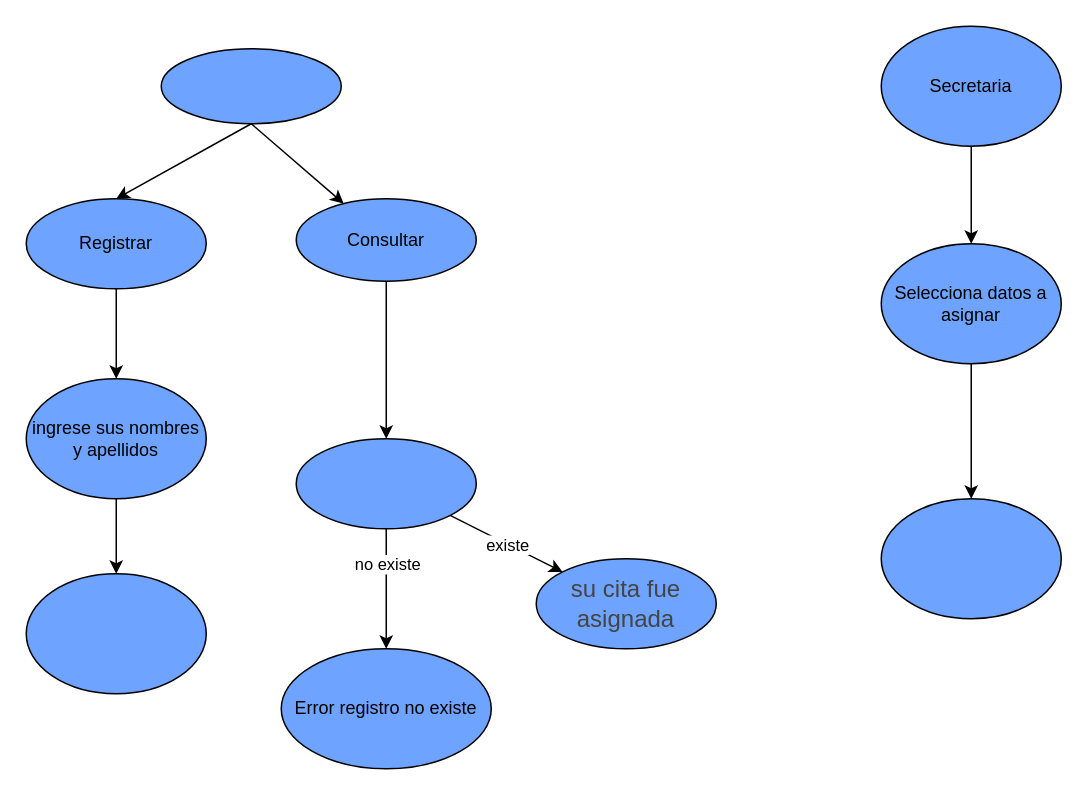
Image size: 1088x795. Some labels were removed from this diagram. The centre of each missing label's shape, as x and y in pixels:
Asignación de cita: (x=970, y=558)
Hola: (x=250, y=85)
Ingrese el radicado: (x=385, y=483)
Numero de identificación: (x=115, y=633)
